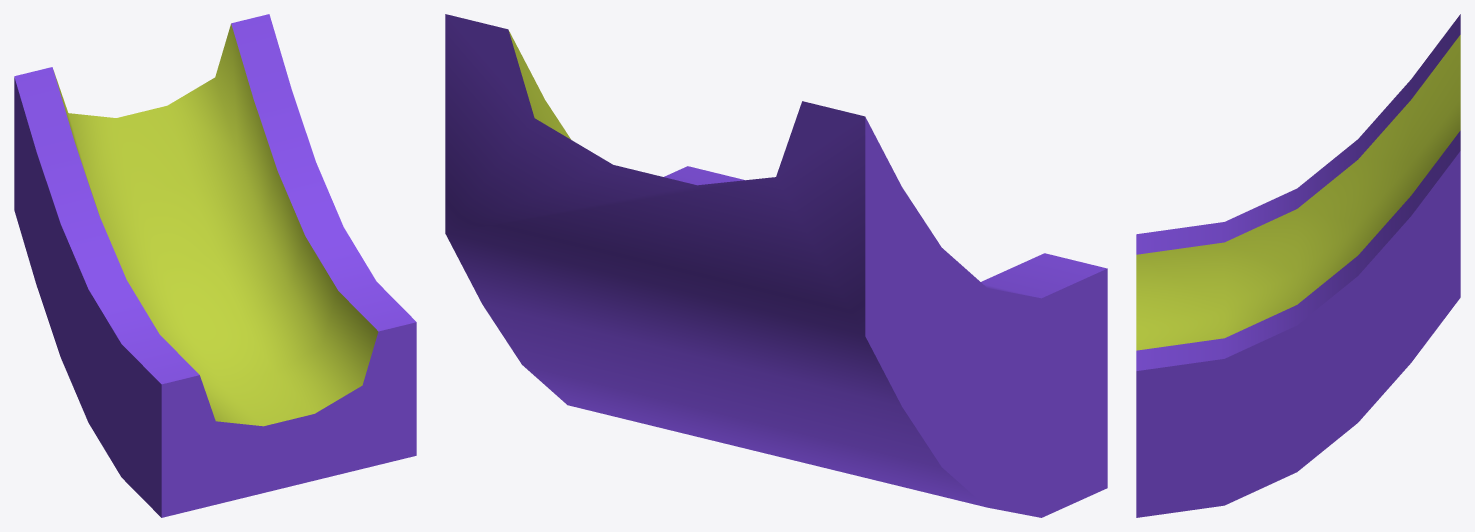
File: rampStart_D-col.dae
The picture shows the model from 3 angles, left to right: view 1: azimuth 30°, elevation 25°; view 2: azimuth 150°, elevation 25°; view 3: azimuth 270°, elevation 25°; orthographic projection. The views are drawn at different scales.
Visible parts, largest first — view 1: rampStart_D-col; view 2: rampStart_D-col; view 3: rampStart_D-col.
Boxes of the visible parts, x1,y1,x2,y2 form: rampStart_D-col: (14,14,416,517); rampStart_D-col: (445,14,1107,517); rampStart_D-col: (1136,14,1460,517).
Size of the model in its own units: 1 by 1 by 1.25.
